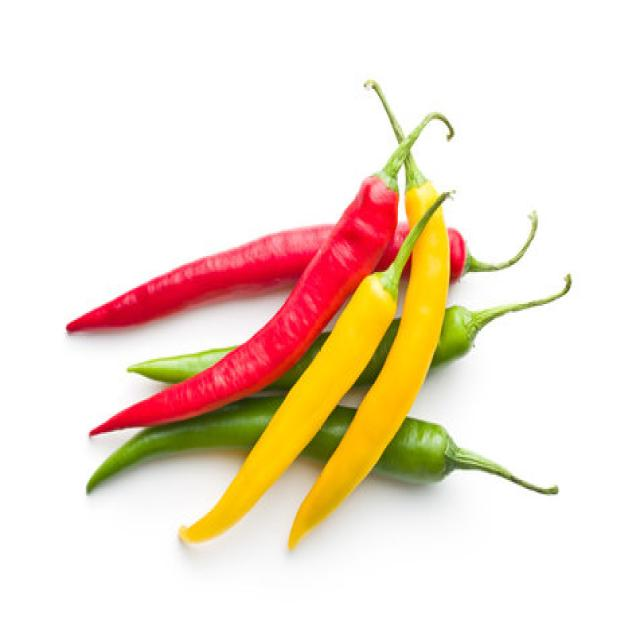Chilli: (64, 203, 536, 336), (126, 272, 572, 389), (84, 393, 556, 498), (64, 220, 339, 334), (125, 318, 401, 388), (378, 206, 538, 283)
